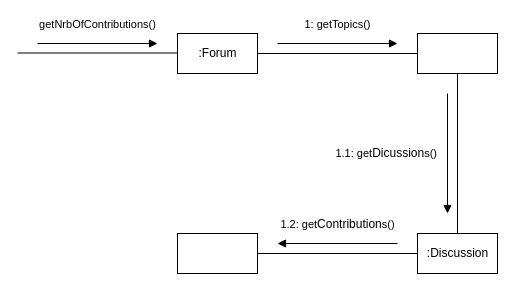
The diagram is 515 pixels wide and 291 high, and some of its shapes have lost their labels. Each missing label, with the box of its shape:
:Contribution: (176, 232, 258, 274)
:Topic: (416, 32, 498, 74)
